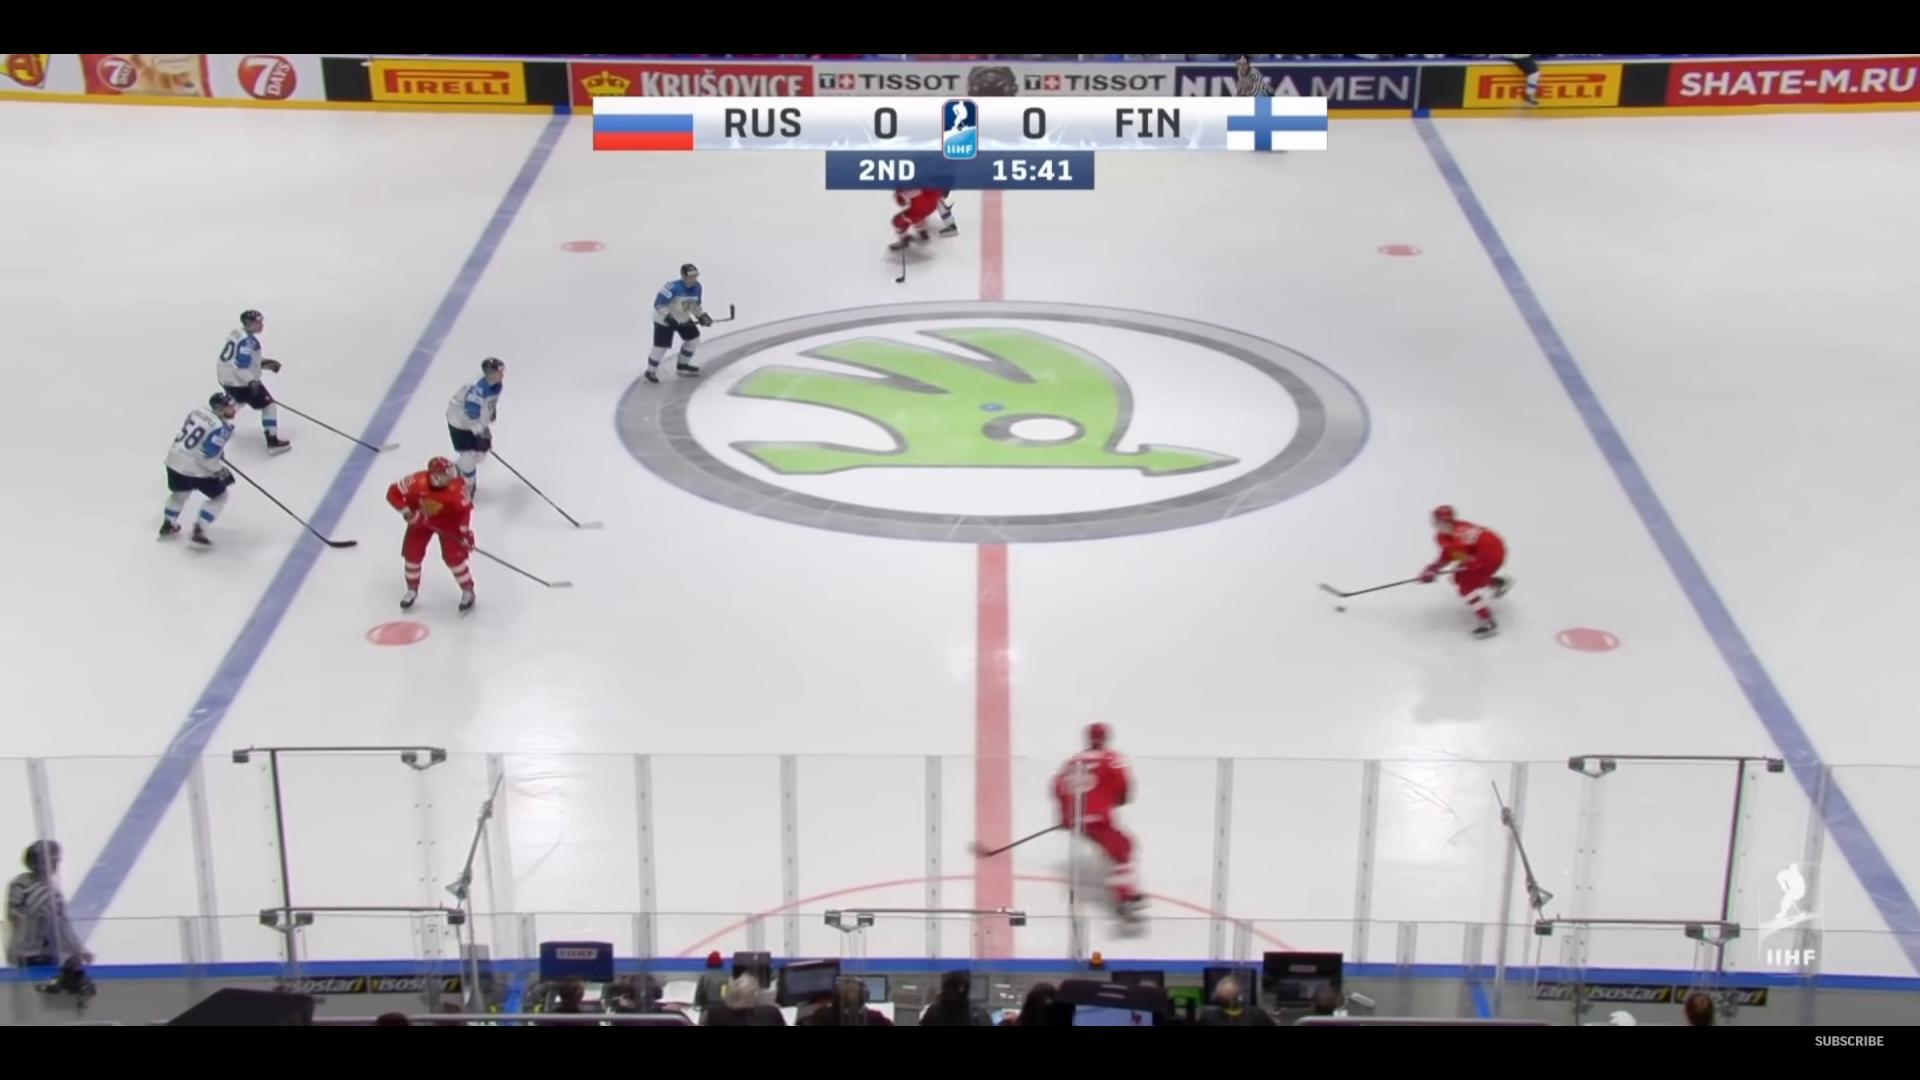puck: (1336, 605, 1345, 612)
